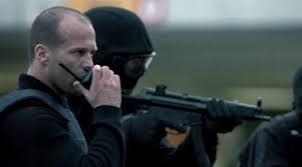rifle: (123, 85, 276, 167)
